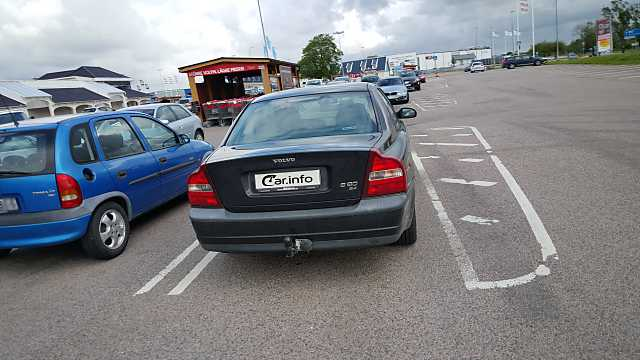car: (188, 81, 421, 261), (2, 112, 214, 254)
